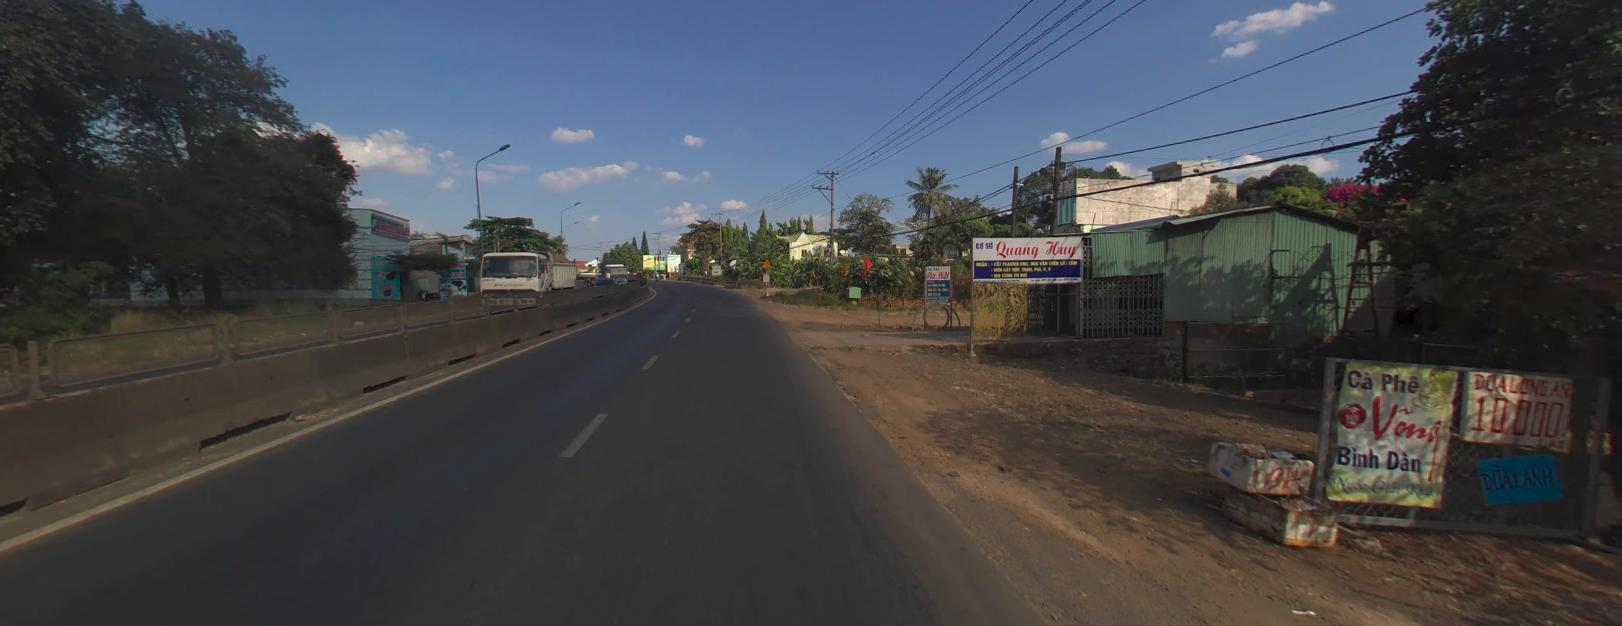Nguy hiem: (761, 257, 771, 267)
